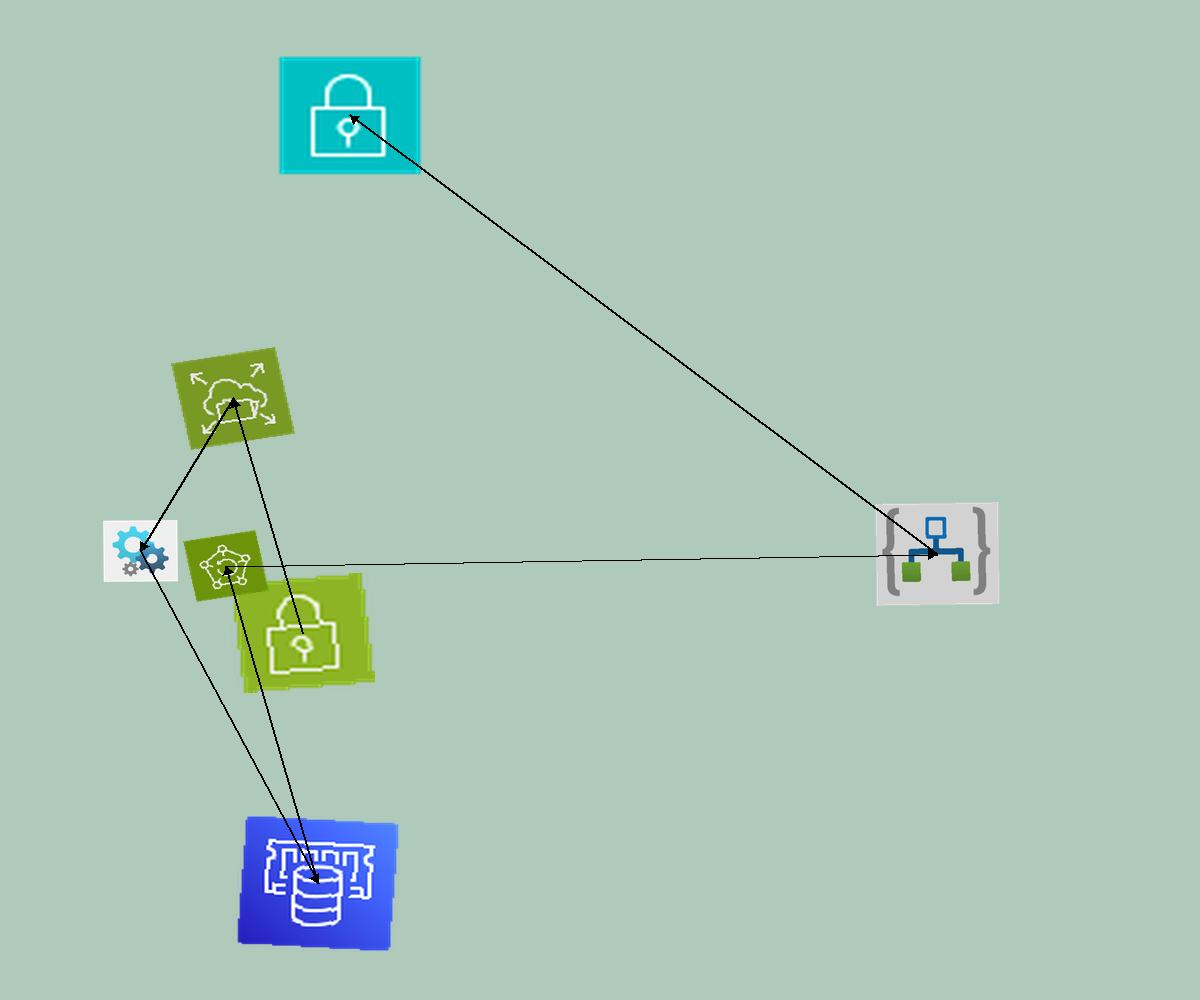AWS-Backup: (183, 530, 269, 602)
AWS-EFS: (171, 347, 295, 450)
AWS-ElastiCache: (236, 815, 400, 952)
AWS-Private-subnet: (276, 54, 424, 177)
AWS-Public-subnet: (231, 573, 375, 693)
Azure_api: (103, 520, 178, 582)
Azure_integration-204-Logic-Apps: (875, 502, 1000, 606)
